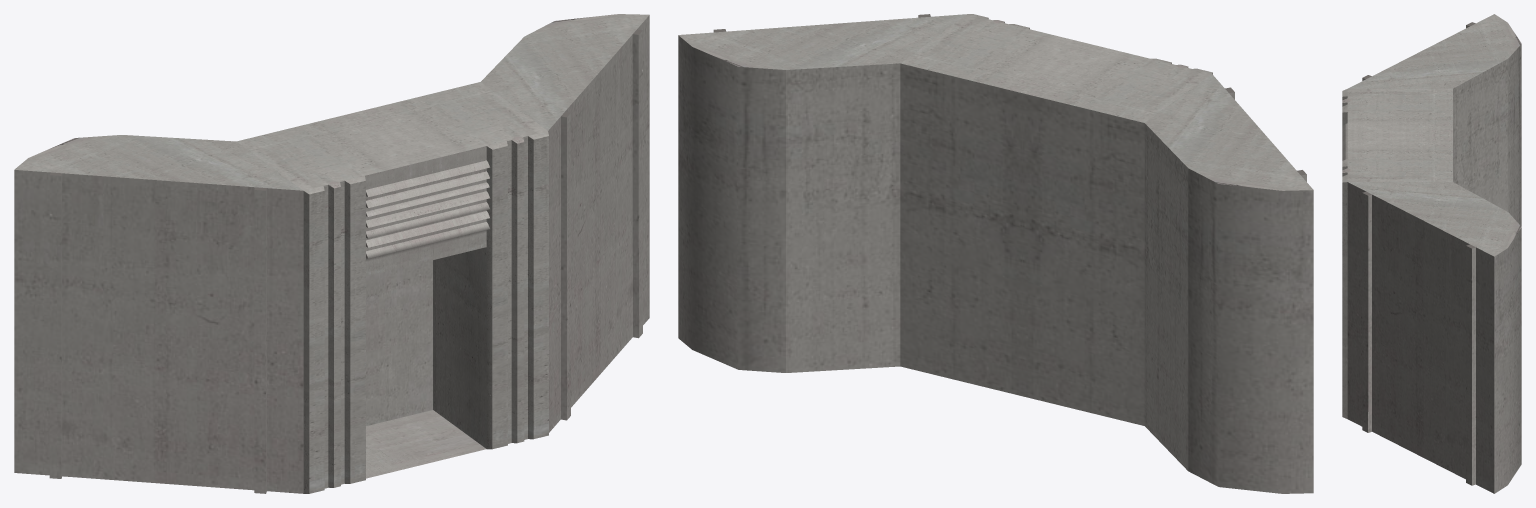
Rendered from door.FBX.
The picture shows the model from 3 angles, left to right: view 1: azimuth 30°, elevation 25°; view 2: azimuth 150°, elevation 25°; view 3: azimuth 270°, elevation 25°; orthographic projection. The views are drawn at different scales.
Parts seen in each view (by area): view 1: Box001; view 2: Box001; view 3: Box001.
Boxes of the visible parts, left/top/right/bottom form: Box001: left=14, top=14, right=649, bottom=493; Box001: left=678, top=14, right=1313, bottom=493; Box001: left=1342, top=14, right=1521, bottom=493.
Bounding box in the file's own units: 176 × 80 × 54.89.
1 material, 1 textured.
